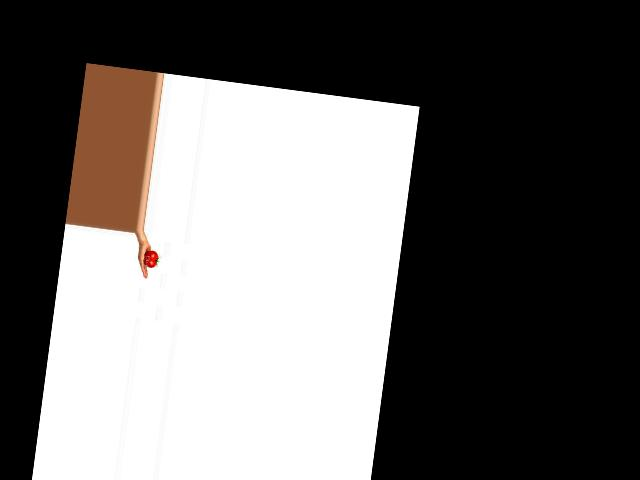tomato: (142, 250, 158, 268)
